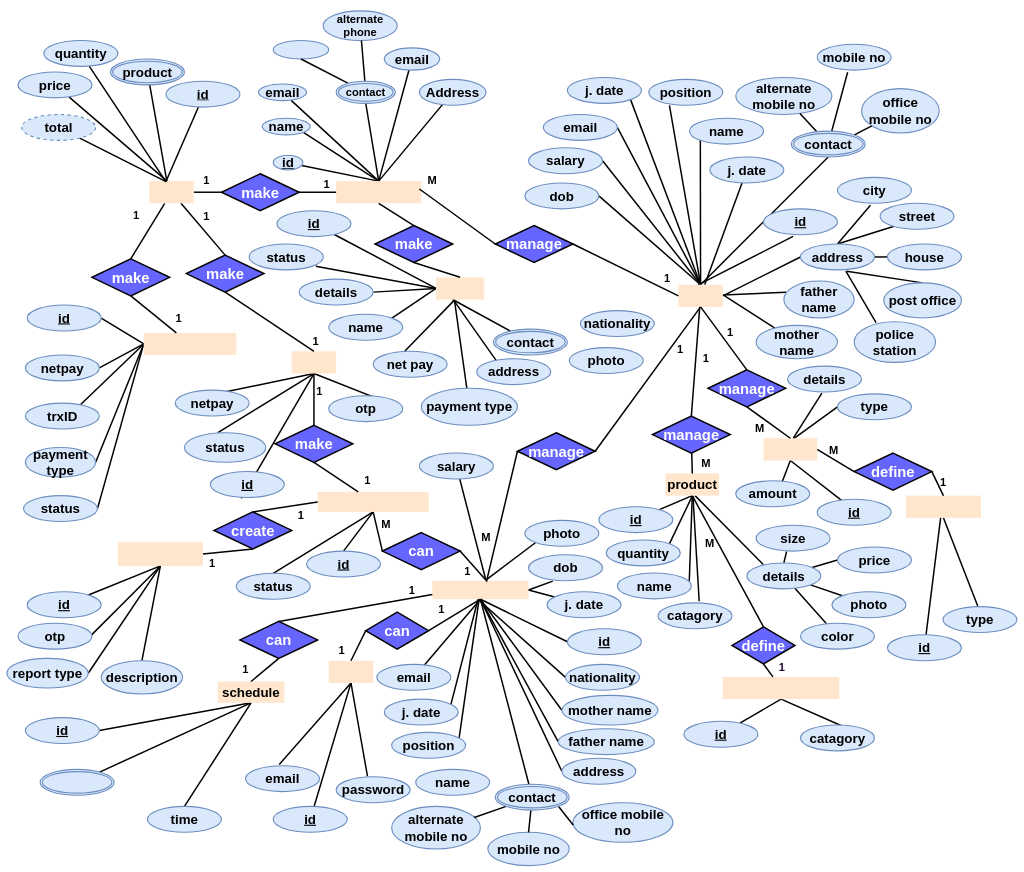
Some shapes in this 1024 by 872 pixel diagram are drawn without their labels. Here are the shapes that lost their labels. From the top down, the box of each, then its label:
(273, 40, 329, 59): mobile
(149, 181, 194, 203): Cart
(336, 181, 421, 203): Customer
(436, 277, 484, 299): Invoice
(678, 285, 723, 307): Staff
(144, 333, 236, 355): payment Info.
(292, 351, 336, 373): Order
(763, 438, 817, 460): cost
(317, 492, 428, 512): order deliver
(906, 495, 981, 518): cost type
(118, 542, 203, 566): order report
(432, 581, 528, 599): Delivery man
(329, 661, 373, 683): Login
(723, 677, 839, 699): product category
(39, 769, 115, 796): day
